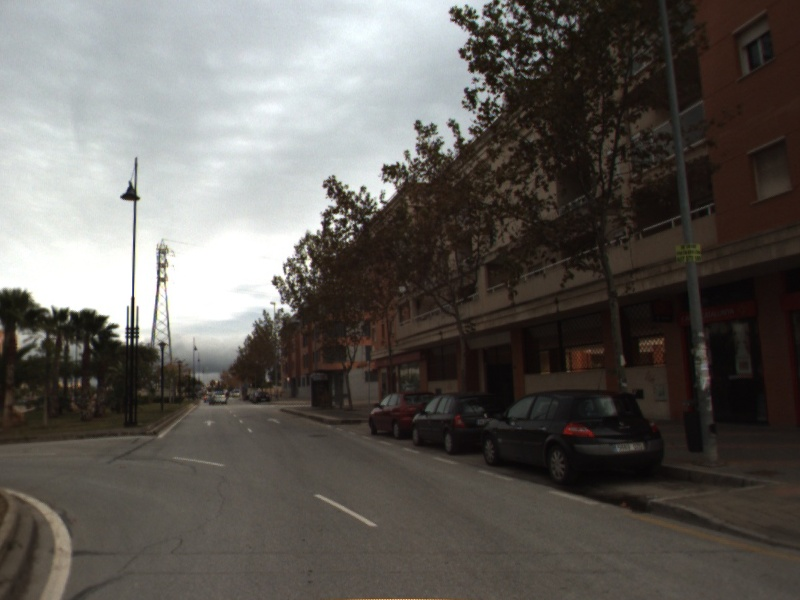STRAIGHT: (201, 418, 218, 428), (265, 416, 283, 425)
